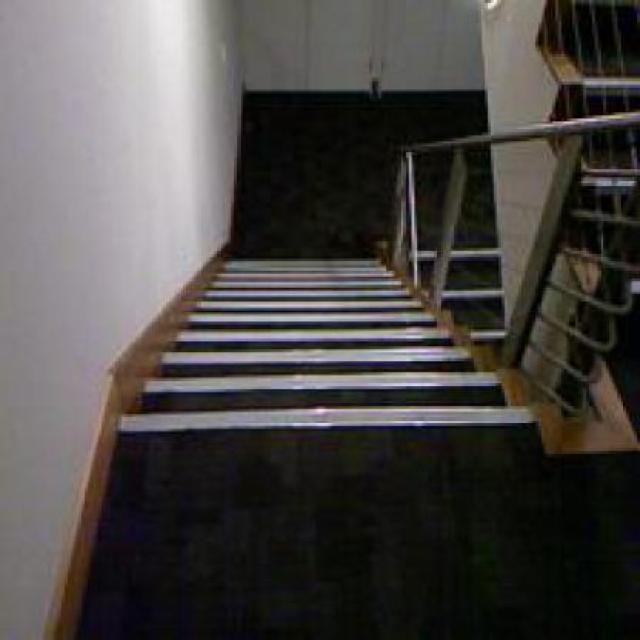stair: (92, 311, 542, 471)
